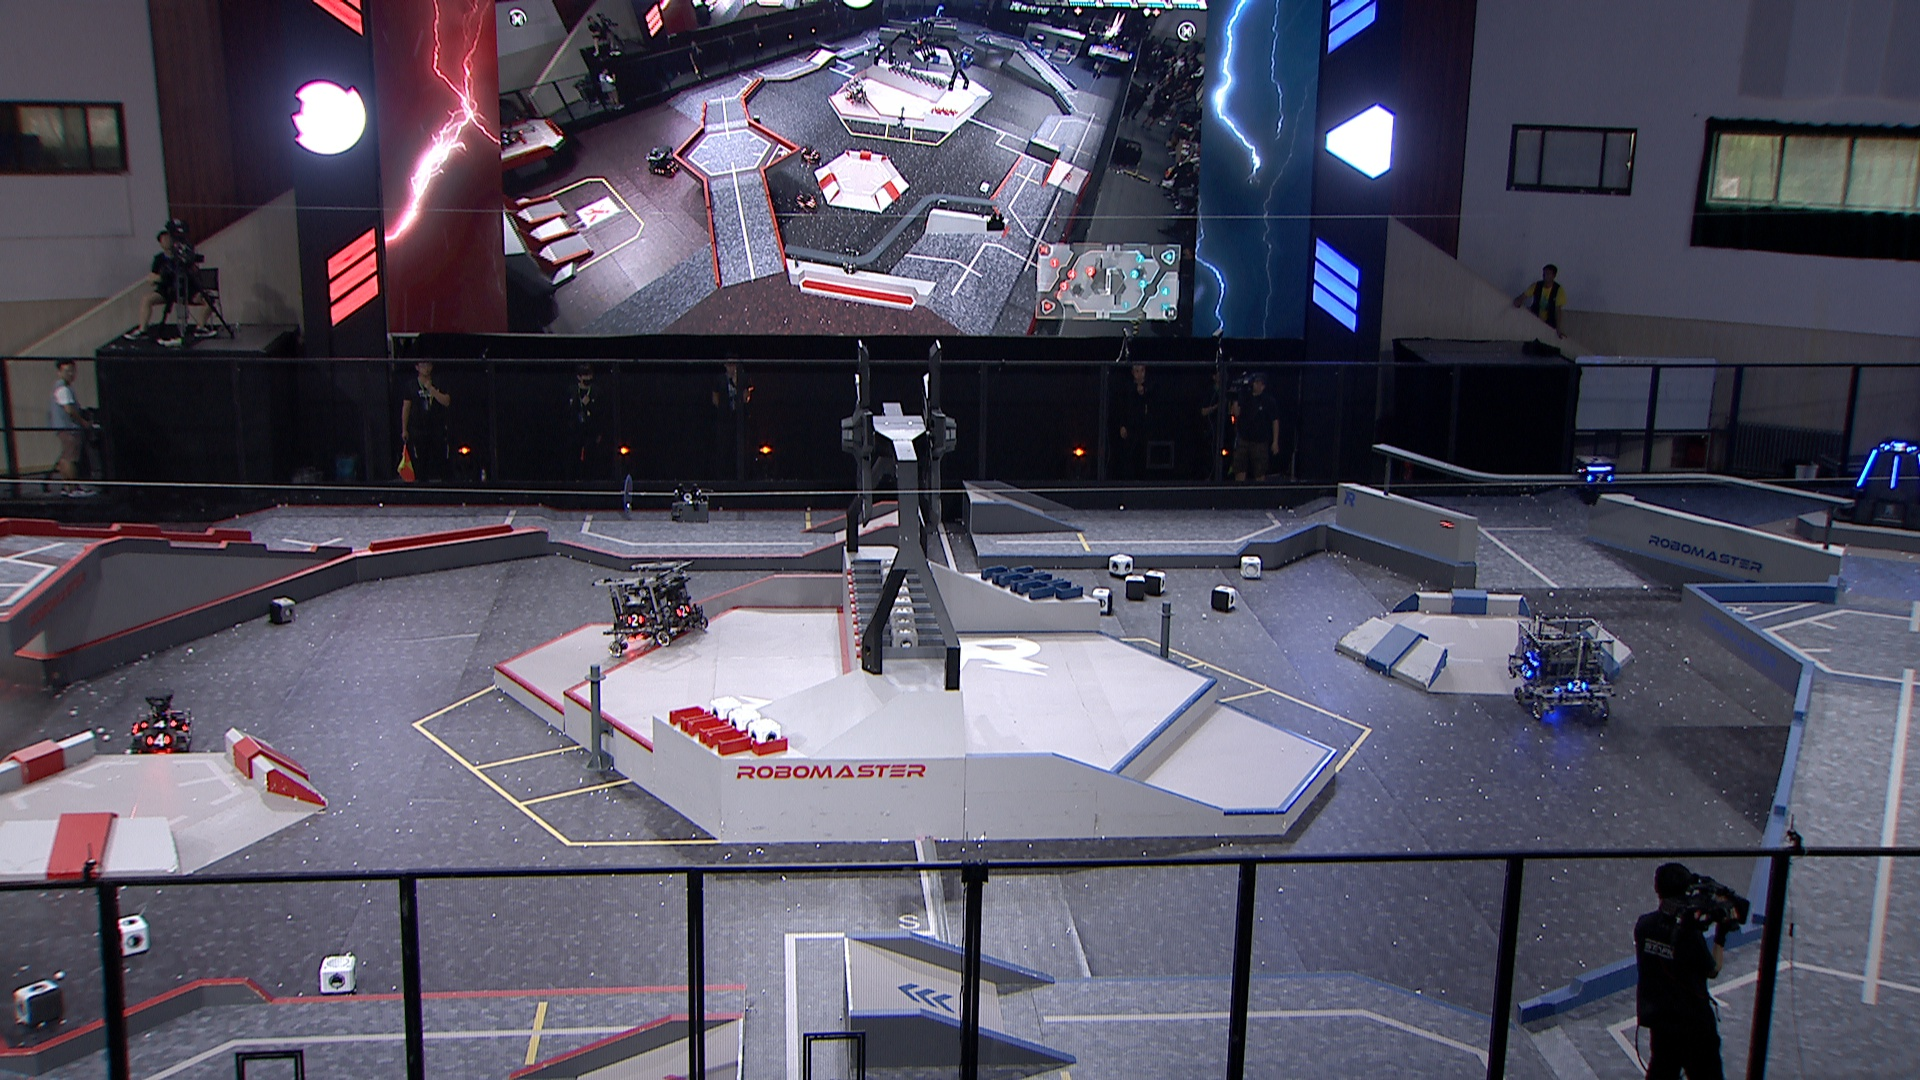armor: (1851, 447, 1882, 491), (138, 713, 181, 731), (1884, 452, 1902, 491), (144, 731, 171, 749), (1882, 442, 1917, 455), (1582, 471, 1614, 485), (671, 603, 692, 618), (1567, 678, 1588, 694), (1516, 662, 1534, 679), (624, 613, 645, 626)
base: (1826, 436, 1920, 533)
car: (593, 555, 713, 659), (1505, 611, 1619, 717), (125, 684, 195, 756)
ignore: (645, 144, 683, 181), (844, 73, 869, 105), (839, 243, 862, 276), (951, 44, 978, 69), (799, 142, 825, 167), (794, 187, 818, 214)
watcher: (1569, 451, 1621, 506)
